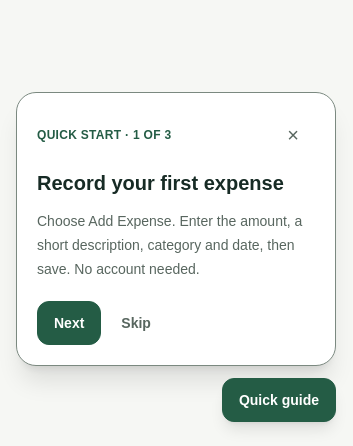
Test: first visit offers three steps, back navigation and a direct expense action
This screenshot has width=353, height=446.
Step 1. Click the button "Next" → (69,323), box [37, 301, 101, 345]
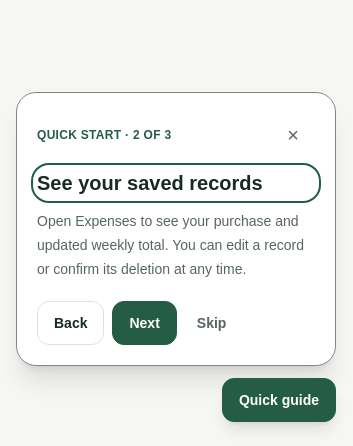
Result: the text "See your saved records" is shown at [37, 172, 263, 194]
Result: the button "Back" is shown
Step 2. Click the button "Back" → (71,323), box [37, 301, 104, 345]
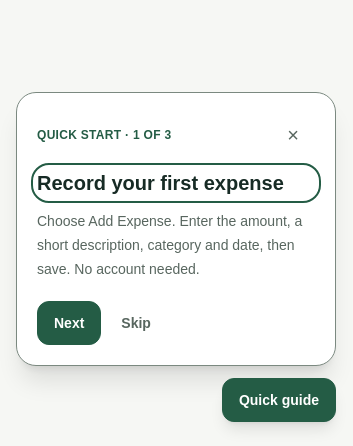
Result: the text "Record your first expense" is shown at [37, 169, 315, 197]
Step 3. Click the button "Next" → (69,323), box [37, 301, 101, 345]
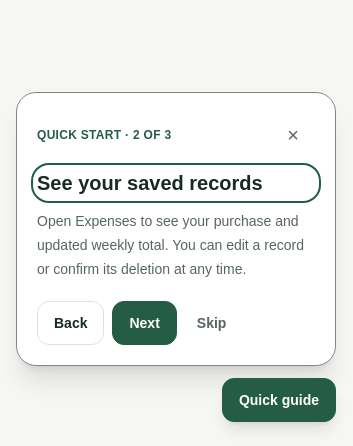
Step 4. Click the button "Next" → (145,323), box [112, 301, 177, 345]
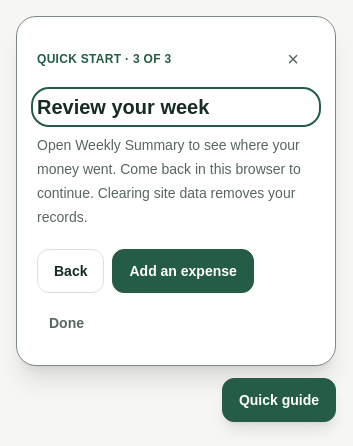
Result: the text "Review your week" is shown at [37, 96, 209, 118]
Result: the link to "/expenses/new" reads "Add an expense" at [112, 249, 254, 293]
